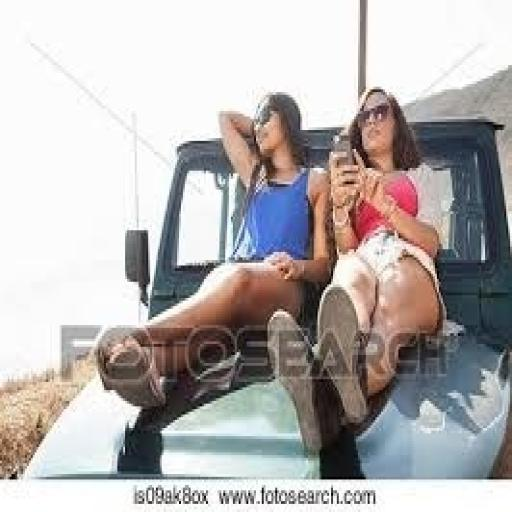texting: (264, 84, 446, 458)
